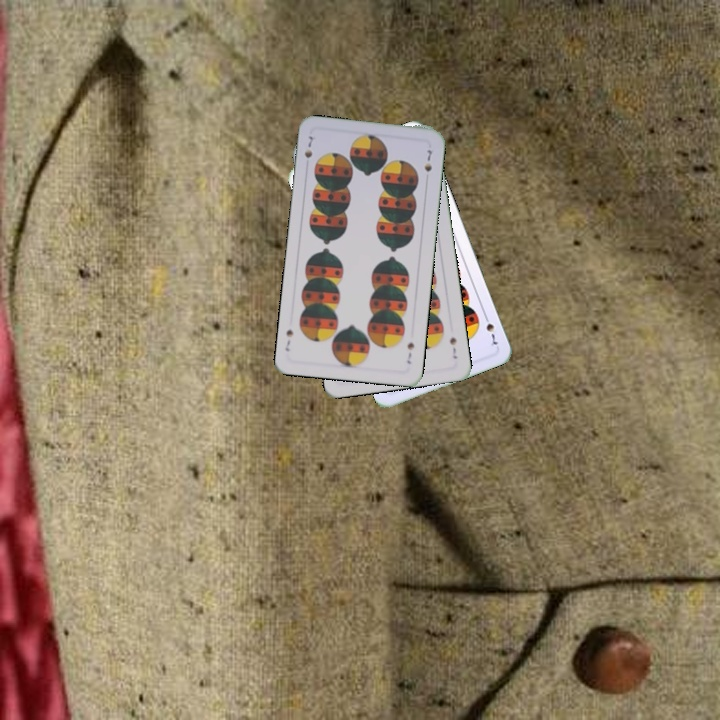S7: (480, 310, 500, 348), (300, 132, 316, 161), (446, 333, 460, 361), (403, 338, 417, 366)
